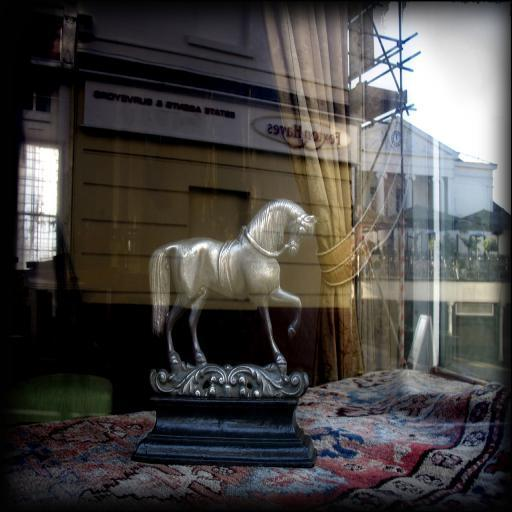horse: (148, 198, 321, 371)
